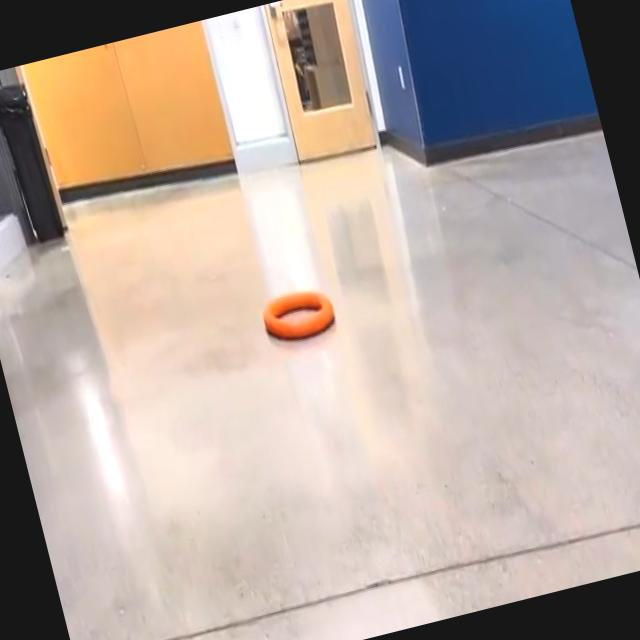note: (262, 290, 333, 336)
